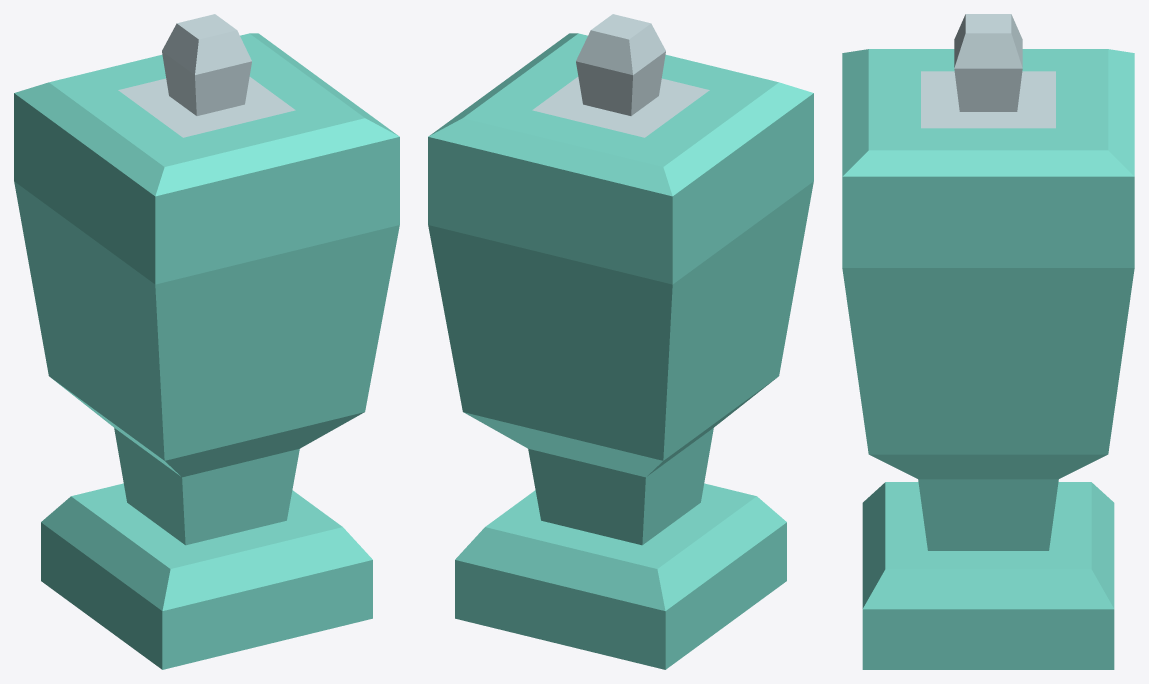
The model's file is urn.glb.
3 views of the same model, side by side, from view 1: azimuth 30°, elevation 25°; view 2: azimuth 150°, elevation 25°; view 3: azimuth 270°, elevation 25° (orthographic). The views are drawn at different scales.
Parts seen in each view (by area): view 1: urn, lid; view 2: urn, lid; view 3: urn, lid.
Boxes of the visible parts, box(x1,y1,x2,y2) form: urn: box(14, 122, 399, 669); lid: box(14, 14, 399, 225); urn: box(428, 122, 813, 669); lid: box(428, 14, 813, 225); urn: box(842, 207, 1134, 669); lid: box(842, 14, 1134, 206).
Bounding box in the file's own units: 0.1742 × 0.39 × 0.1742.
